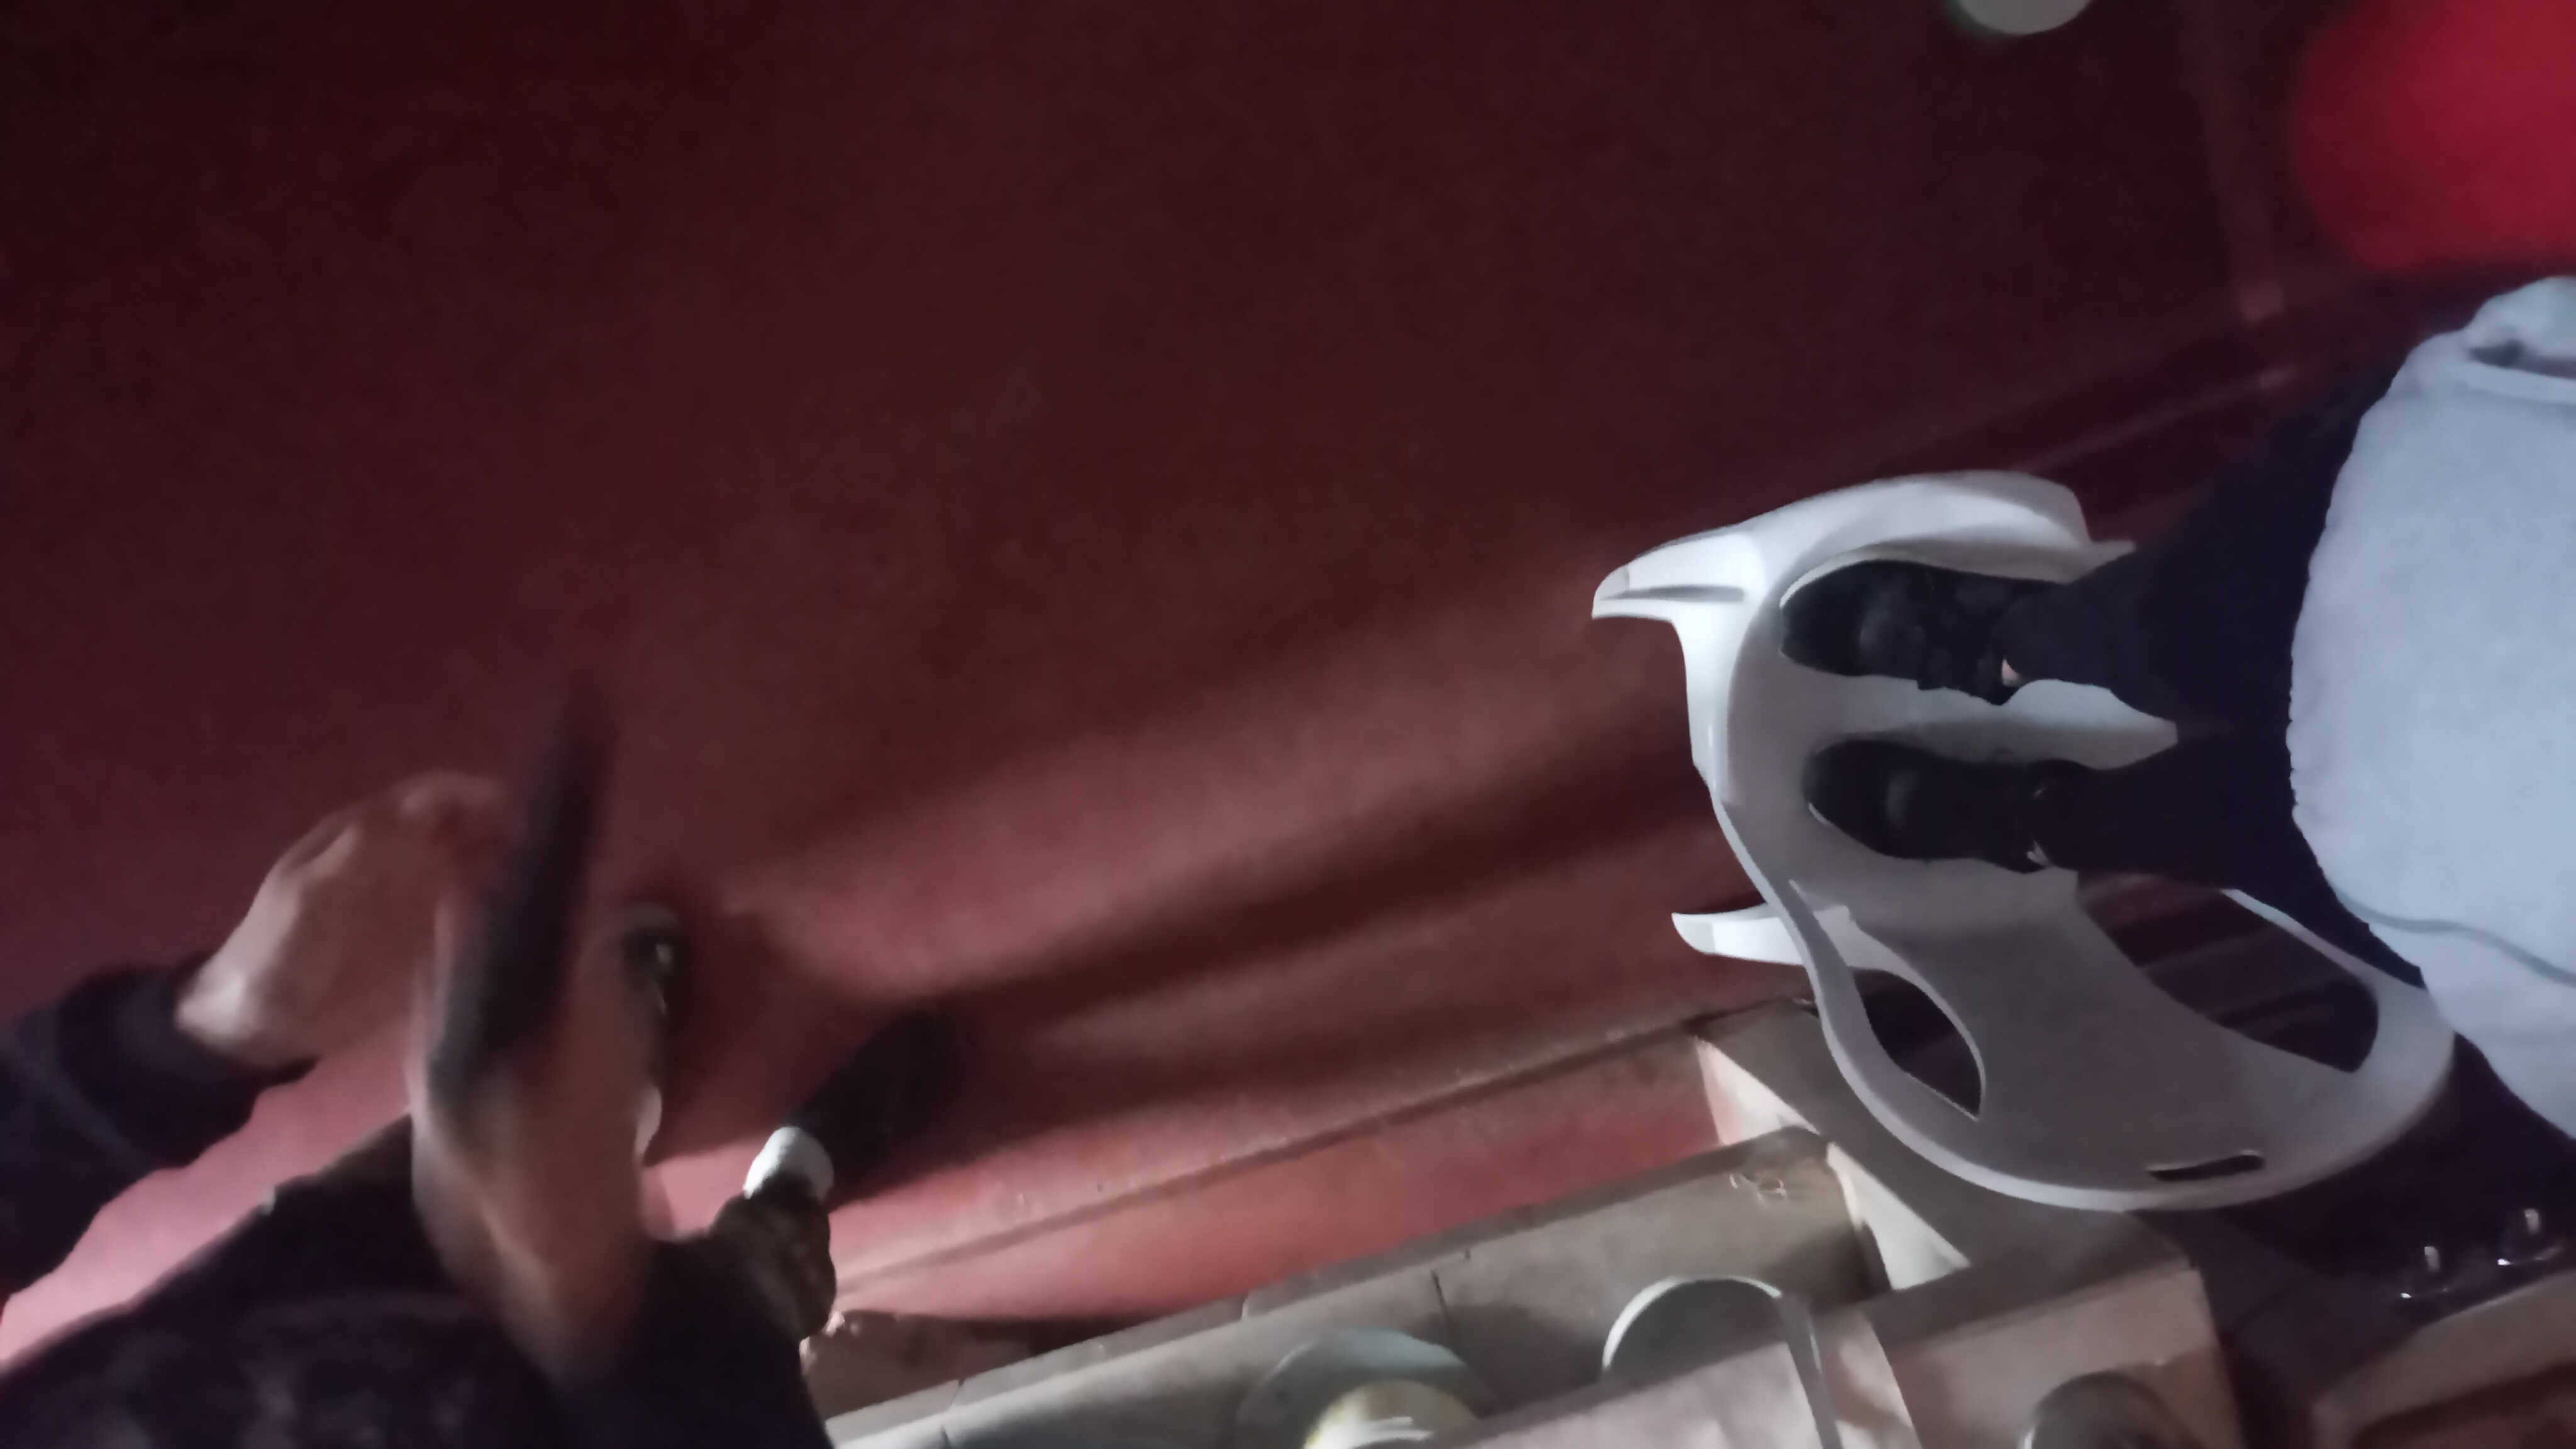Arma: (428, 694, 646, 1118)
